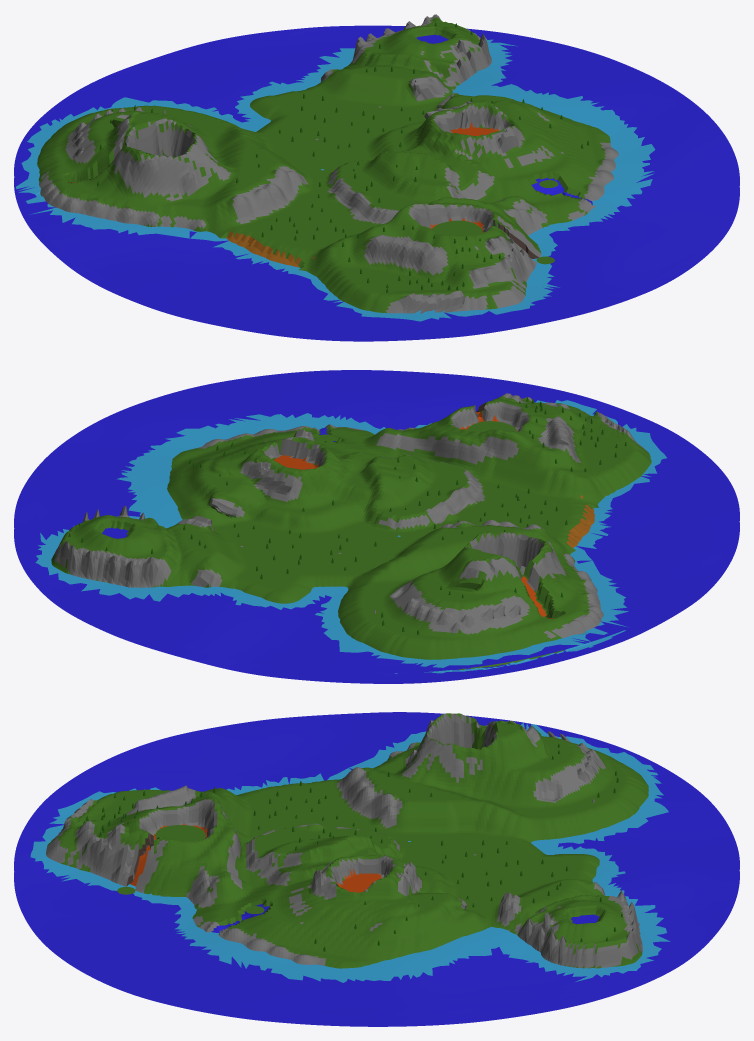
File: island2.glb
3 views of the same model, one above another, from view 1: azimuth 30°, elevation 25°; view 2: azimuth 150°, elevation 25°; view 3: azimuth 270°, elevation 25° (orthographic).
Visible parts, largest first — view 1: Island, Ocean, SubOcean, Lava Circle; view 2: Island, Ocean, SubOcean; view 3: Island, Ocean, SubOcean, Lava Circle.
Boxes of the visible parts, x1,y1,x2,y2 form: Island: (37,14,618,313); Ocean: (14,25,739,330); SubOcean: (14,178,739,341); Lava Circle: (432,220,482,236); Island: (51,393,651,674); Ocean: (14,370,739,672); SubOcean: (14,522,739,683); Island: (46,713,648,968); Ocean: (14,712,739,1015); SubOcean: (14,871,739,1026); Lava Circle: (155,825,205,842).
Bounding box in the file's own units: 16.2 × 1.76 × 16.2.
